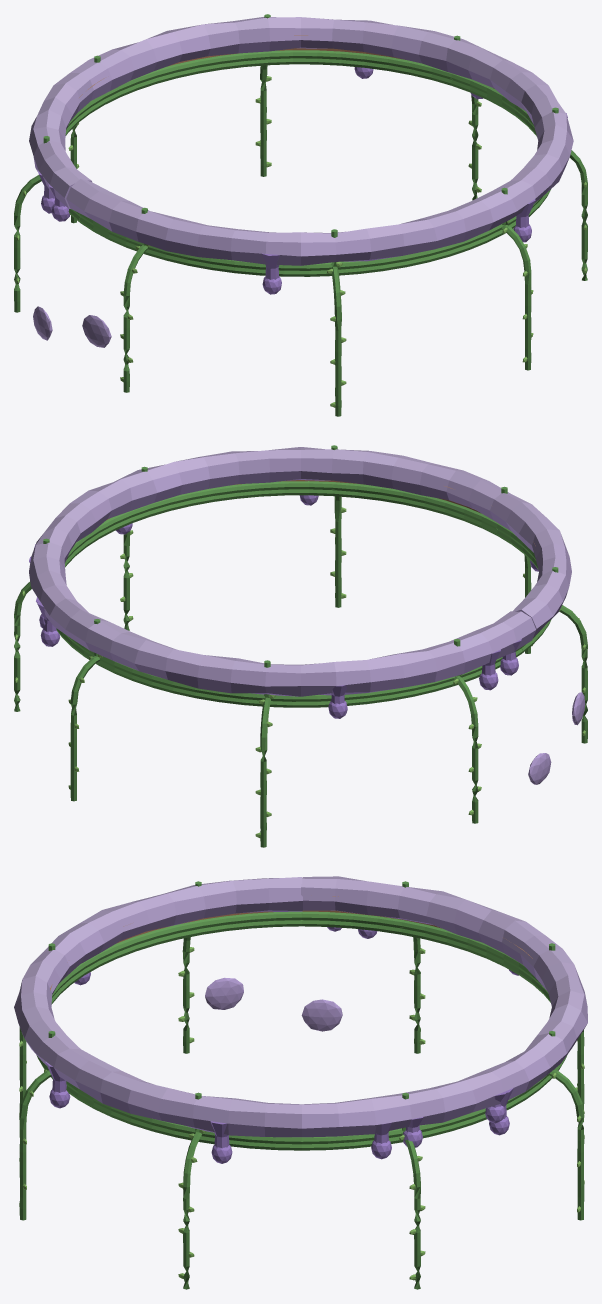
The model's file is goo_jar_trim_3_mid@mushroom.fbx.
3 views of the same model, one above another, from view 1: azimuth 30°, elevation 25°; view 2: azimuth 150°, elevation 25°; view 3: azimuth 270°, elevation 25° (orthographic). The views are drawn at different scales.
Parts seen in each view (by area): view 1: goo_jar_trim_3_mid; view 2: goo_jar_trim_3_mid; view 3: goo_jar_trim_3_mid.
Boxes of the visible parts, bbox=[...] form: goo_jar_trim_3_mid: bbox=[14, 14, 587, 416]; goo_jar_trim_3_mid: bbox=[14, 445, 587, 847]; goo_jar_trim_3_mid: bbox=[14, 876, 587, 1289].
Bounding box in the file's own units: 47.64 × 16.05 × 45.98.
